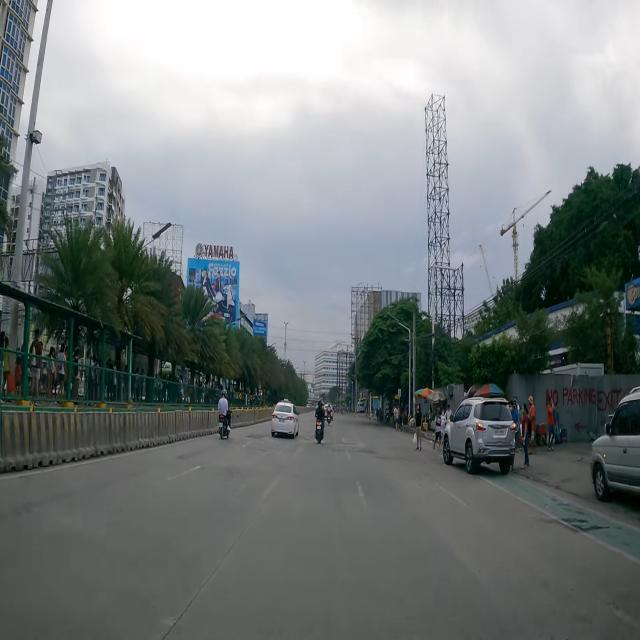car: (443, 396, 517, 474), (591, 386, 640, 501), (270, 400, 298, 438)
motorcycle: (218, 390, 231, 438), (315, 400, 325, 443), (326, 404, 332, 426)
